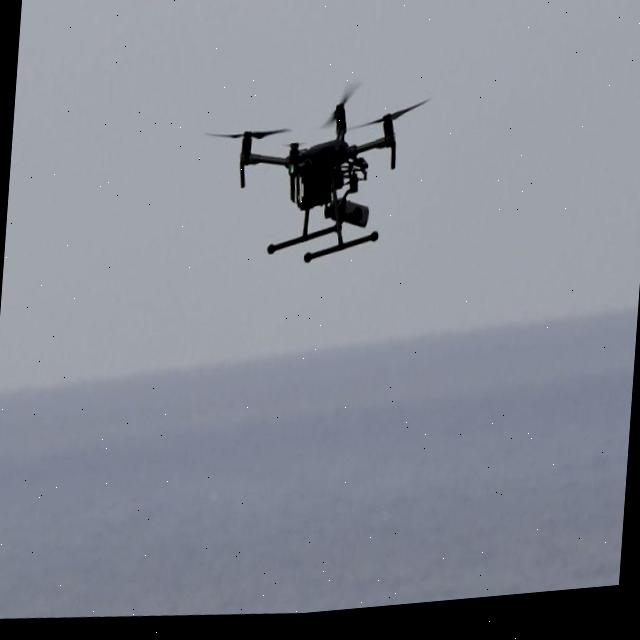drone: (184, 51, 452, 308)
